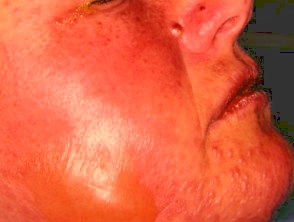SJS-TEN: (12, 133, 291, 221), (32, 0, 196, 66)
